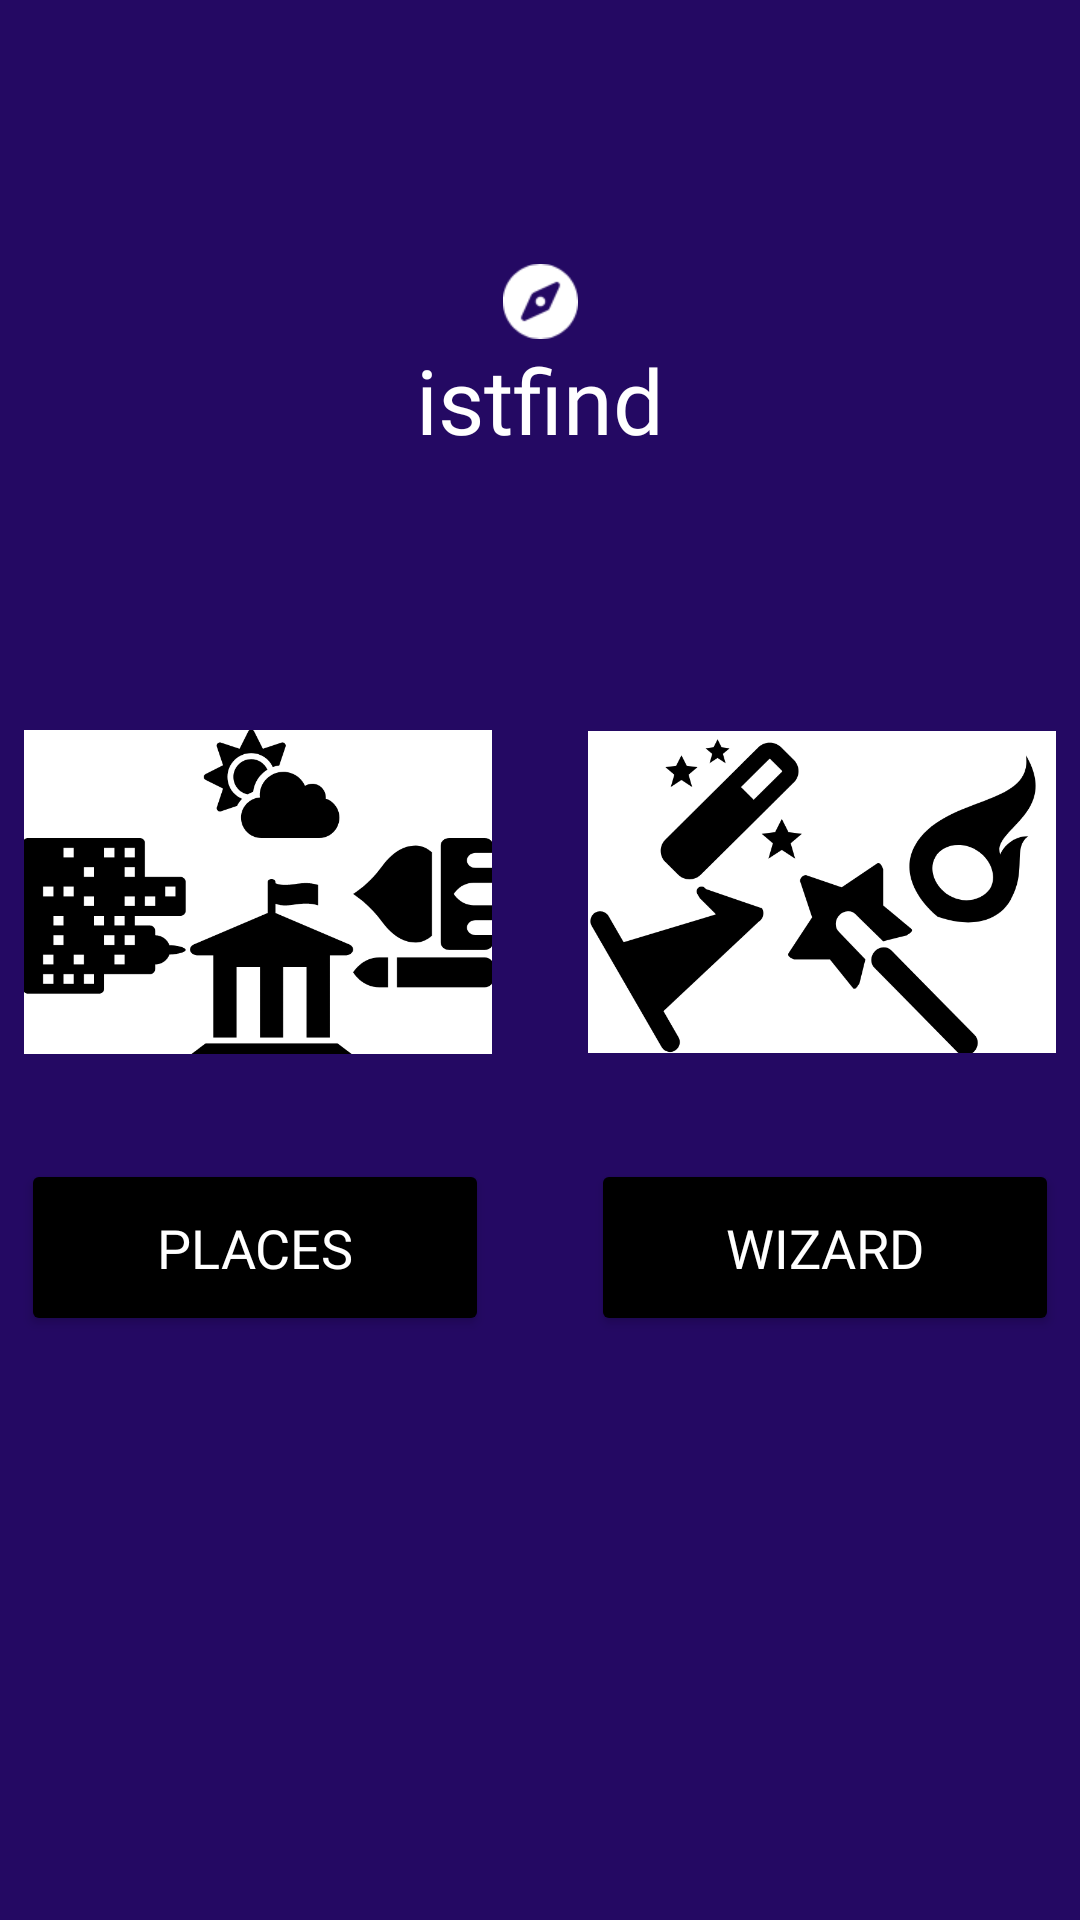

Named icons in this screenshot (1080 x 1920) and their centers, (x=x, y=y):
awesome compass: (x=540, y=301)
